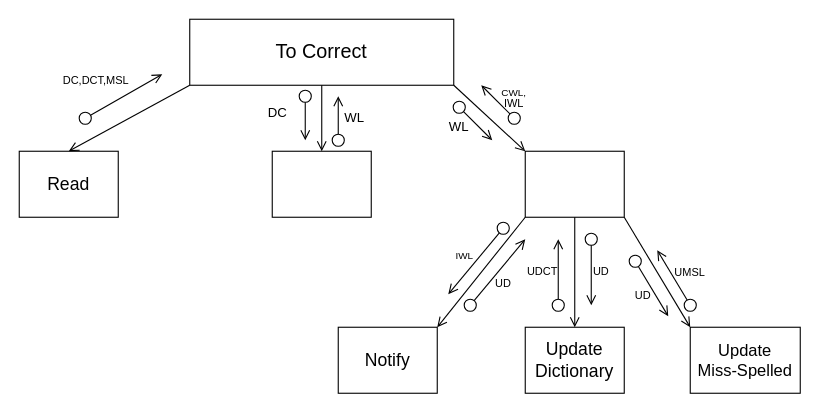
The diagram is 820 pixels wide and 413 high, and some of its shapes have lost their labels. The box of each missing label's shape, as (x1, y1, x2, y2) in pixels:
Split: (271, 150, 371, 217)
Verify: (524, 150, 624, 217)
